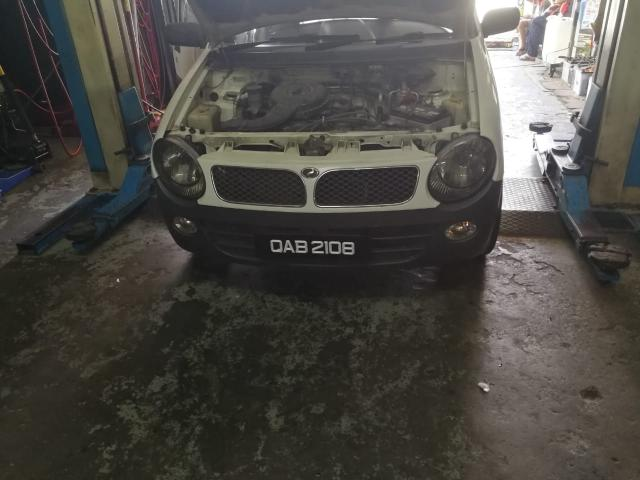License_Plate: (256, 233, 373, 266)
car: (162, 1, 513, 277)
